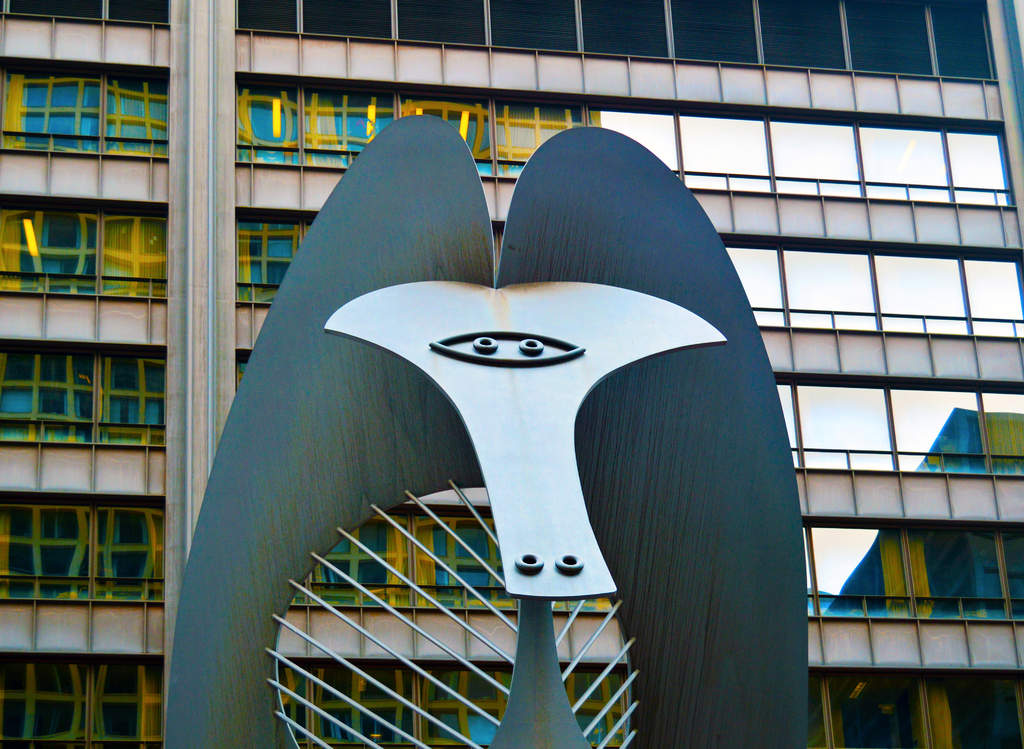Window: (230, 0, 996, 81), (600, 106, 1018, 199), (294, 504, 615, 611), (232, 74, 605, 165), (273, 663, 635, 748), (723, 244, 1023, 337), (16, 477, 167, 653), (774, 381, 1023, 473), (801, 521, 1023, 620), (806, 661, 1023, 747), (0, 195, 165, 308), (0, 48, 168, 158), (0, 340, 168, 450), (0, 652, 164, 748)
